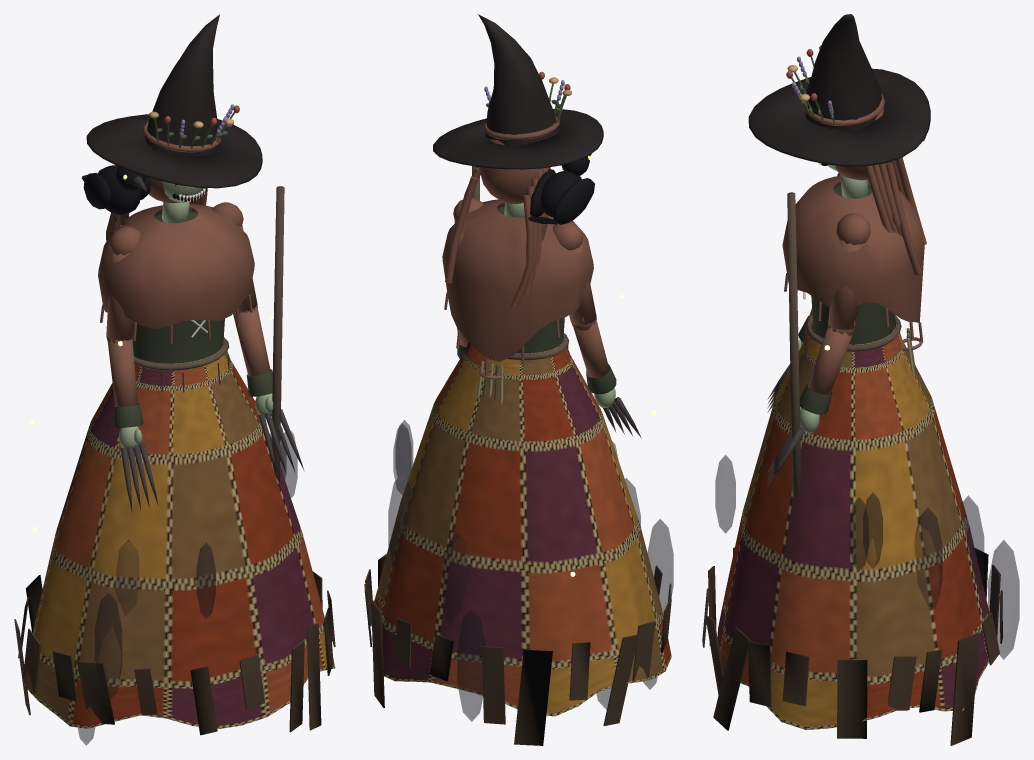
Rendered from hedge_witch.glb.
The picture shows the model from 3 angles, left to right: view 1: azimuth 30°, elevation 25°; view 2: azimuth 150°, elevation 25°; view 3: azimuth 270°, elevation 25°; orthographic projection. The views are drawn at different scales.
Visible parts, largest first — view 1: Skirt, Witch_Root_RustShawl, HatPivot_HatFelt, Witch_Root_HRag_140c07, Witch_Root_HSmoke, ArmA_RustShawl, Bodice, BroomHandle, RavenPivot_Raven, ArmB_RustShawl, ArmA_HClaw, ArmB_HClaw (+6 smaller); view 2: Skirt, Witch_Root_RustShawl, Witch_Root_HRag_140c07, HatPivot_HatFelt, Witch_Root_HSmoke, Head_WildAuburn, RavenPivot_Raven, ArmA_RustShawl, Bodice, ArmA_HClaw, CuffArmA, HatBand; view 3: Skirt, HatPivot_HatFelt, Witch_Root_HRag_140c07, Witch_Root_RustShawl, Witch_Root_HSmoke, ArmB_RustShawl, Head_WildAuburn, BroomHandle, Bodice, Belt, CuffArmB, ArmB_HClaw (+2 smaller).
Boxes of the visible parts, x1,y1,x2,y2 form: Skirt: (23, 341, 335, 728); Witch_Root_RustShawl: (98, 203, 254, 343); HatPivot_HatFelt: (86, 14, 262, 188); Witch_Root_HRag_140c07: (14, 571, 335, 735); Witch_Root_HSmoke: (78, 428, 297, 745); ArmA_RustShawl: (106, 226, 140, 406); Bodice: (132, 211, 224, 363); BroomHandle: (271, 186, 284, 483); RavenPivot_Raven: (81, 165, 150, 214); ArmB_RustShawl: (212, 202, 270, 376); ArmA_HClaw: (120, 443, 158, 513); ArmB_HClaw: (258, 409, 304, 477); Skirt: (371, 338, 671, 716); Witch_Root_RustShawl: (442, 199, 593, 375); Witch_Root_HRag_140c07: (364, 554, 671, 745); HatPivot_HatFelt: (433, 14, 603, 169); Witch_Root_HSmoke: (388, 420, 673, 721); Head_WildAuburn: (445, 139, 550, 308); RavenPivot_Raven: (528, 156, 594, 224); ArmA_RustShawl: (552, 222, 609, 377); Bodice: (497, 206, 564, 353); ArmA_HClaw: (603, 397, 641, 438); CuffArmA: (586, 364, 616, 394); HatBand: (483, 116, 559, 139); Skirt: (717, 317, 989, 729); HatPivot_HatFelt: (748, 14, 930, 166); Witch_Root_HRag_140c07: (702, 547, 1002, 745); Witch_Root_RustShawl: (782, 176, 924, 341); Witch_Root_HSmoke: (715, 455, 1019, 659); ArmB_RustShawl: (808, 213, 870, 394); Head_WildAuburn: (835, 108, 926, 274); BroomHandle: (787, 192, 801, 499); Bodice: (811, 184, 894, 344); Belt: (805, 314, 901, 351); CuffArmB: (799, 383, 832, 414); ArmB_HClaw: (767, 426, 804, 485).
Size of the model in its own units: 0.869 by 2 by 0.815.
Materials: 26 (1 with a texture image).
